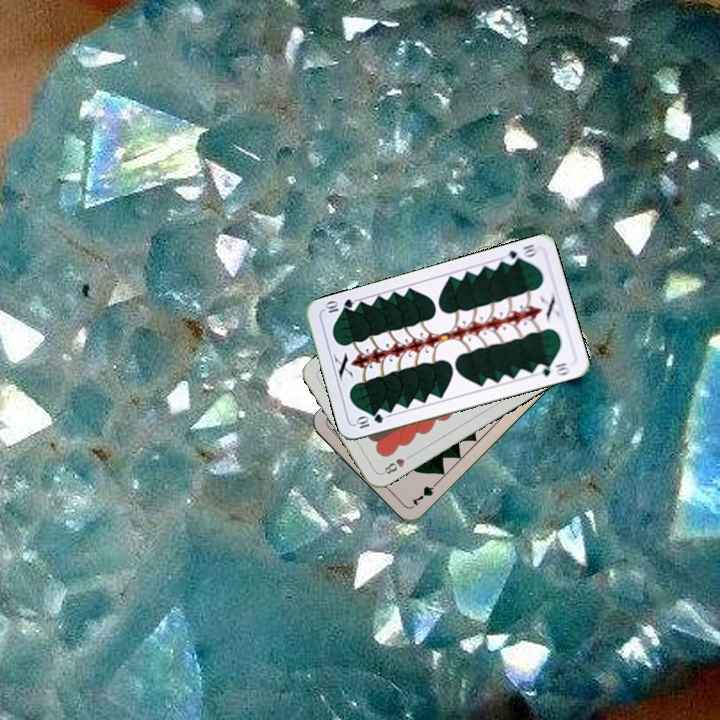G10: (500, 240, 539, 267), (352, 410, 386, 431)
G7: (407, 476, 442, 509)
H8: (378, 450, 415, 477)
